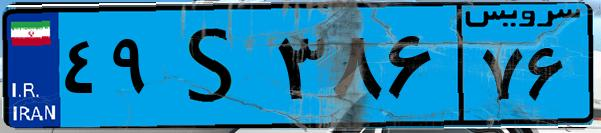3: (270, 28, 330, 110)
4: (57, 26, 110, 100)
6: (385, 28, 445, 110), (525, 38, 570, 115)
7: (475, 38, 525, 113)
8: (330, 28, 385, 110)
9: (110, 28, 158, 98)
S: (158, 12, 270, 120)
